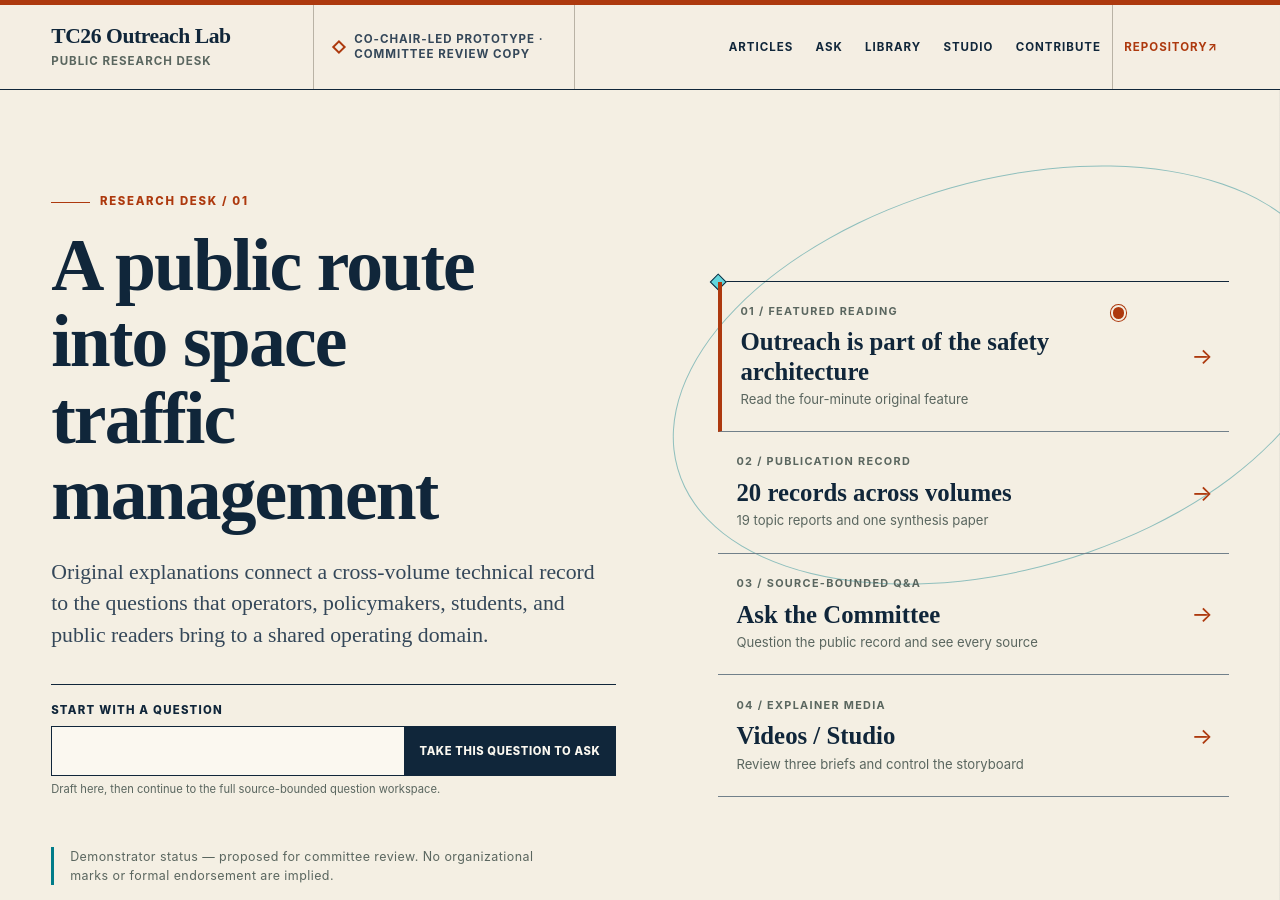
Test: editorial application › transfers a first-view question into Ask and focuses it without a request
Type "How do shared catalogs support coordination?" into the field labelled "Start with a question" at (228, 751), box [51, 726, 405, 776]
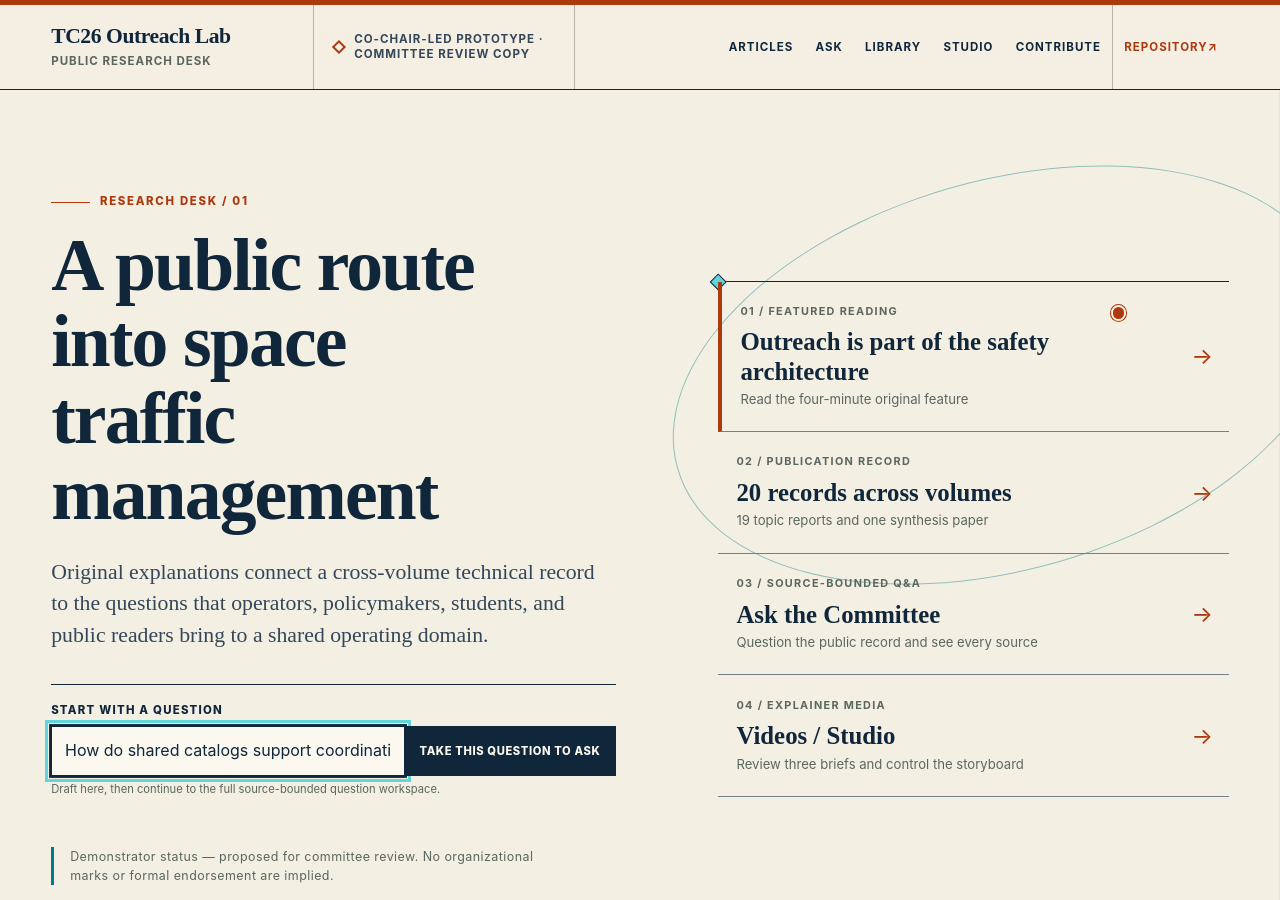
Click the button "Take this question to Ask" at (510, 751), box [405, 726, 616, 776]
(page scrolled)
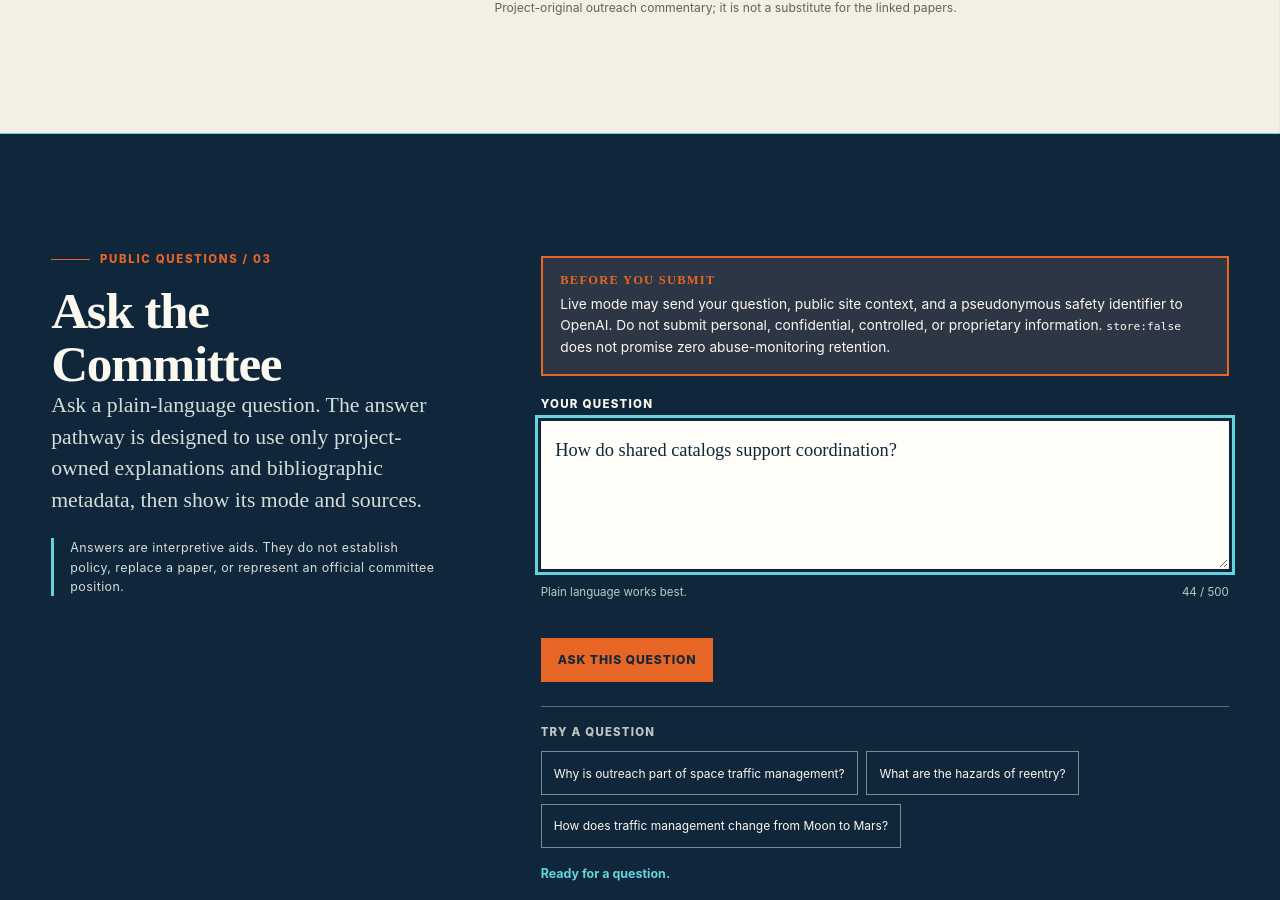
Now the text box labelled "Your question" holds "How do shared catalogs support coordination?", box [541, 421, 1229, 569]
